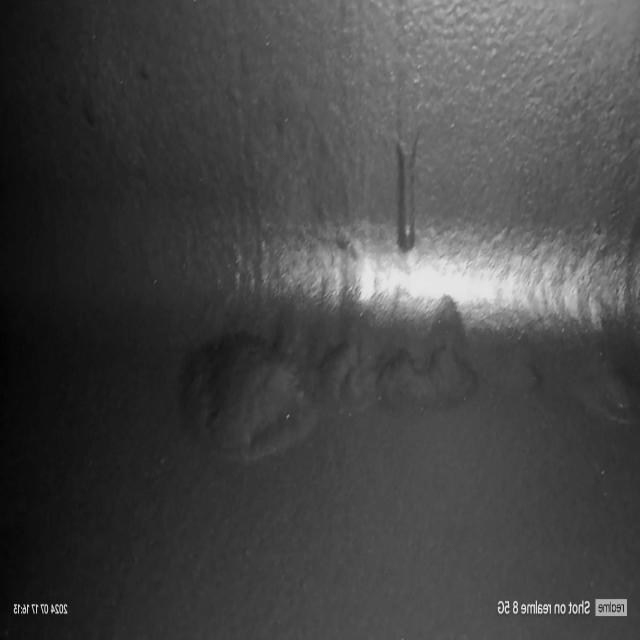paint drips: (385, 104, 429, 264)
